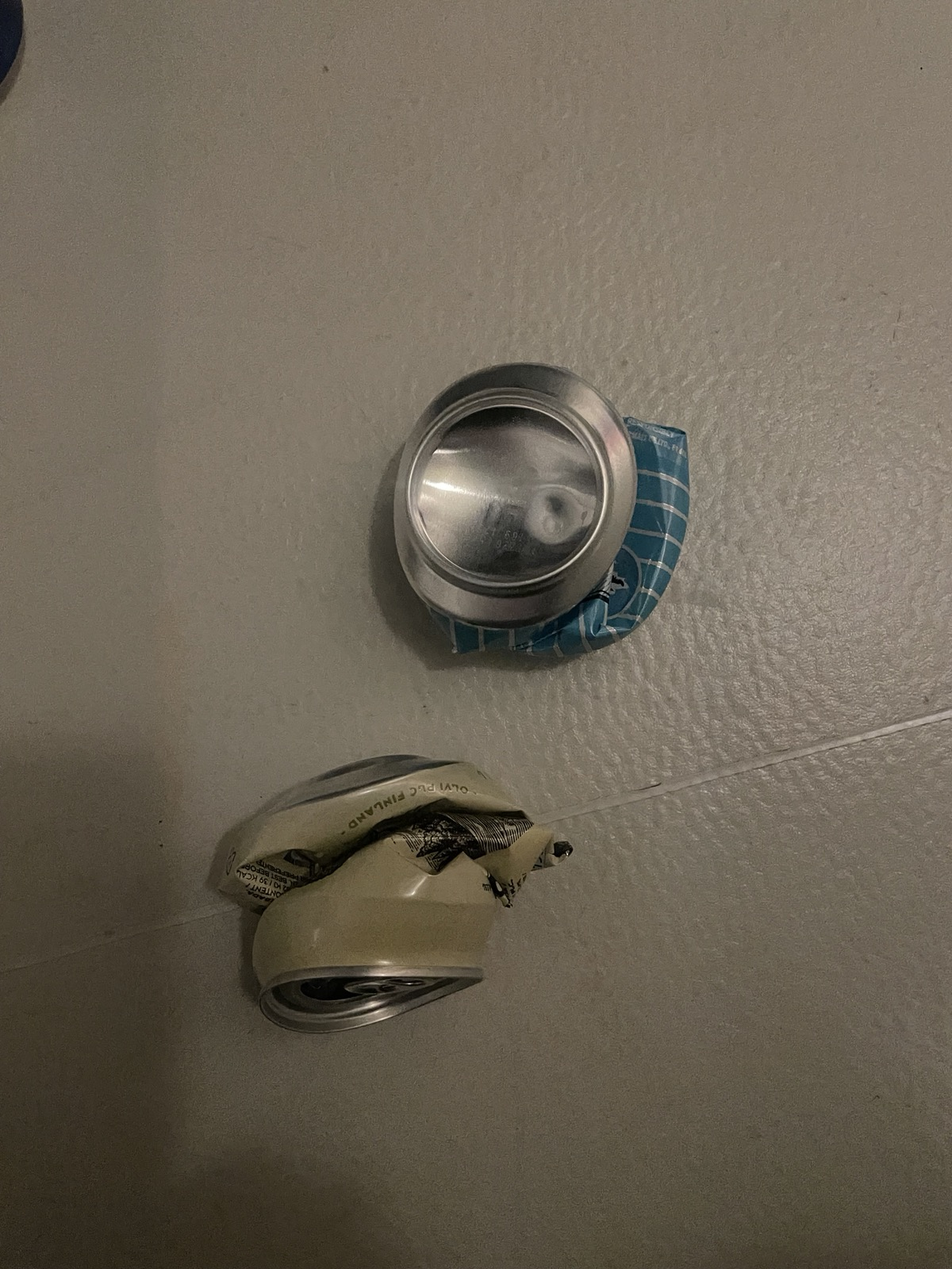pantburk: (203, 748, 578, 1035), (382, 359, 689, 670)
